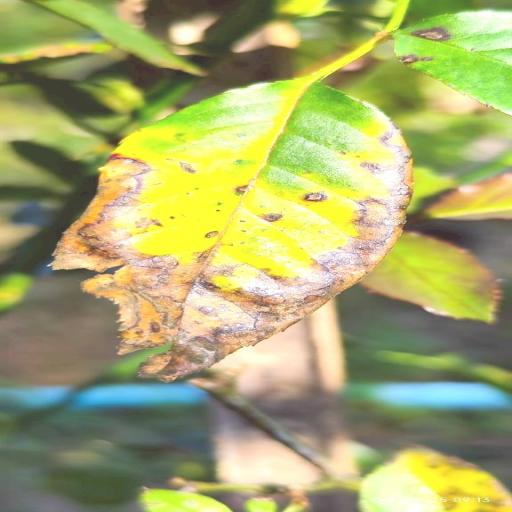thrip: (55, 74, 410, 381)
